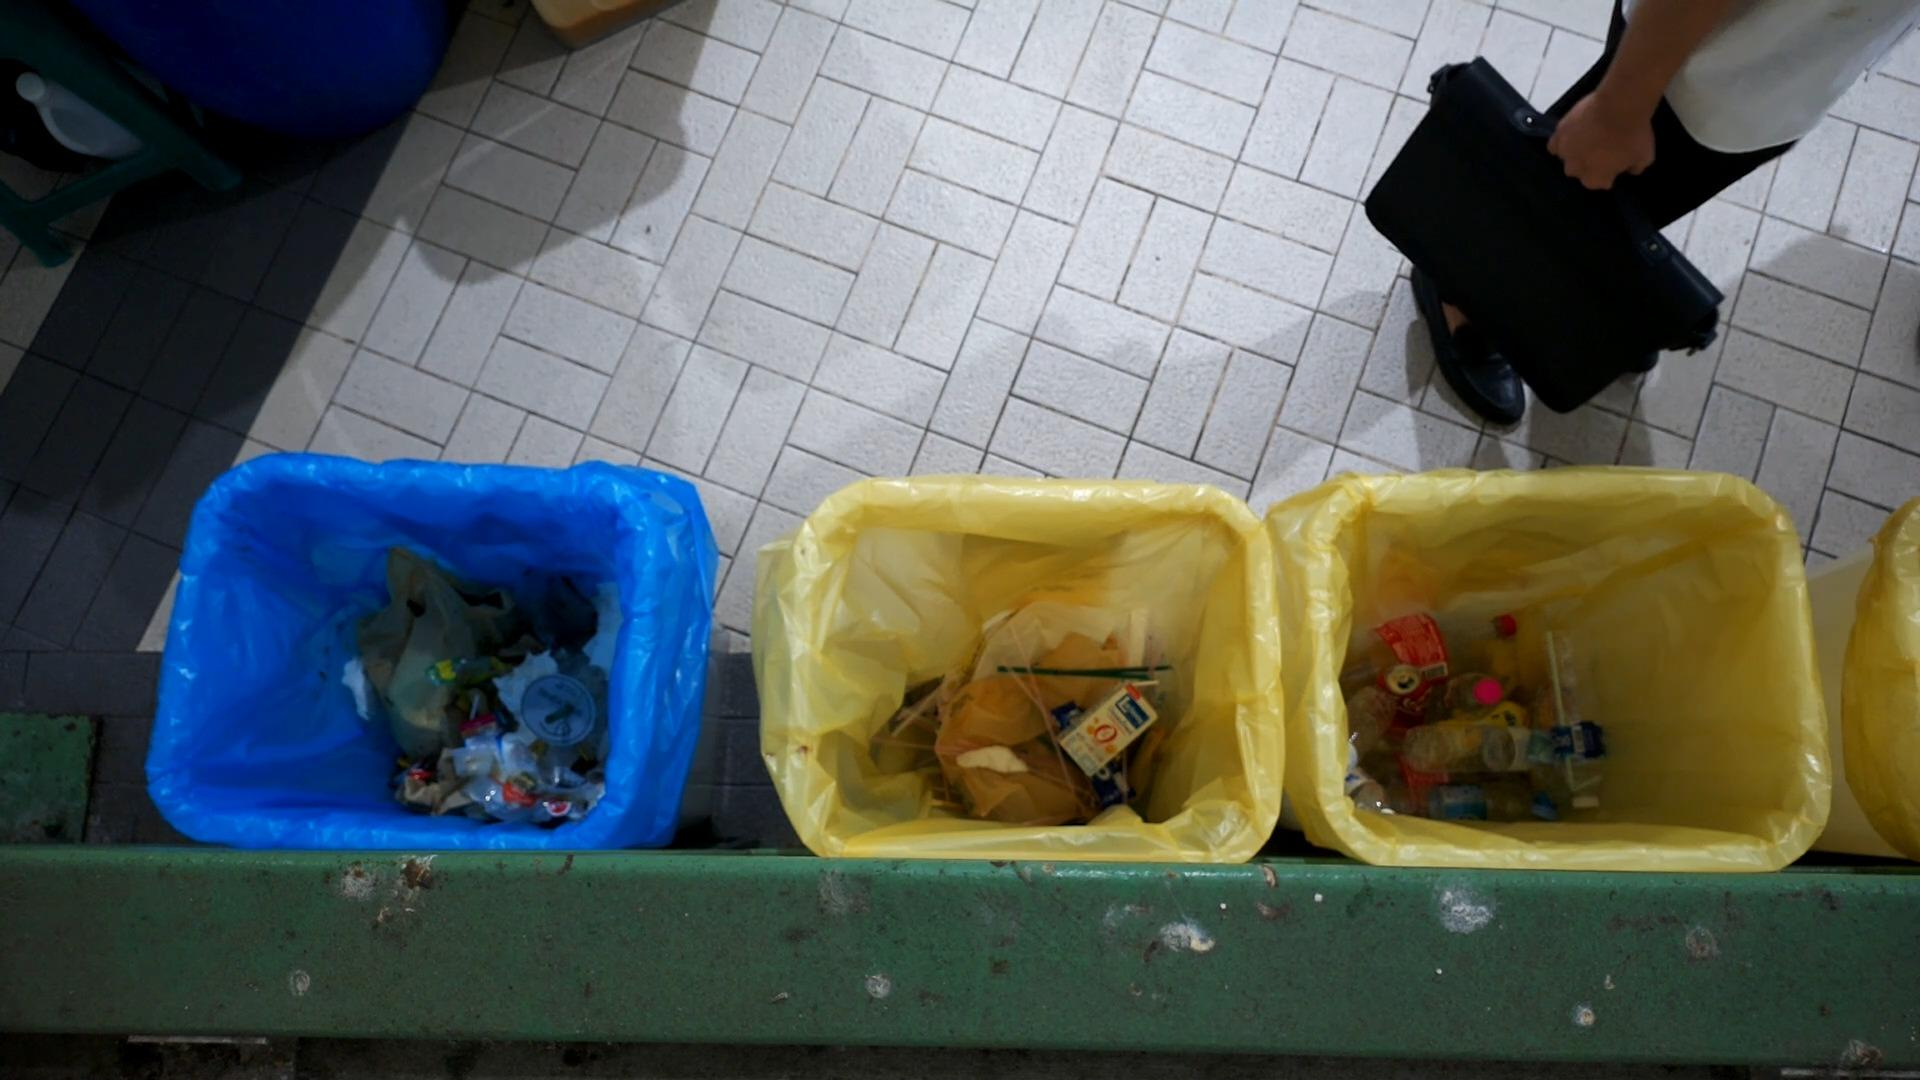can: (1375, 658, 1433, 742)
filled plastic bag: (339, 538, 526, 761)
food container: (448, 742, 497, 778)
milk carton: (1054, 679, 1163, 777), (456, 711, 504, 782)
plastic bag: (963, 596, 1154, 695)
plastic bottle: (1342, 607, 1538, 709), (1540, 597, 1609, 808), (1399, 721, 1553, 775), (1387, 783, 1561, 823), (1505, 678, 1555, 802), (1341, 682, 1398, 764), (1436, 666, 1506, 728)
plastic cup: (520, 651, 612, 749)
snack packaging: (485, 765, 608, 823), (425, 647, 512, 695)
straw: (1009, 625, 1077, 794), (1544, 630, 1604, 794), (890, 666, 965, 736), (1000, 661, 1060, 729), (1030, 764, 1110, 798), (998, 659, 1172, 671), (996, 665, 1151, 678), (872, 735, 972, 752), (1133, 679, 1160, 687)
tissue paper: (492, 646, 560, 744), (583, 585, 618, 680), (339, 651, 381, 715), (955, 741, 1031, 773)
